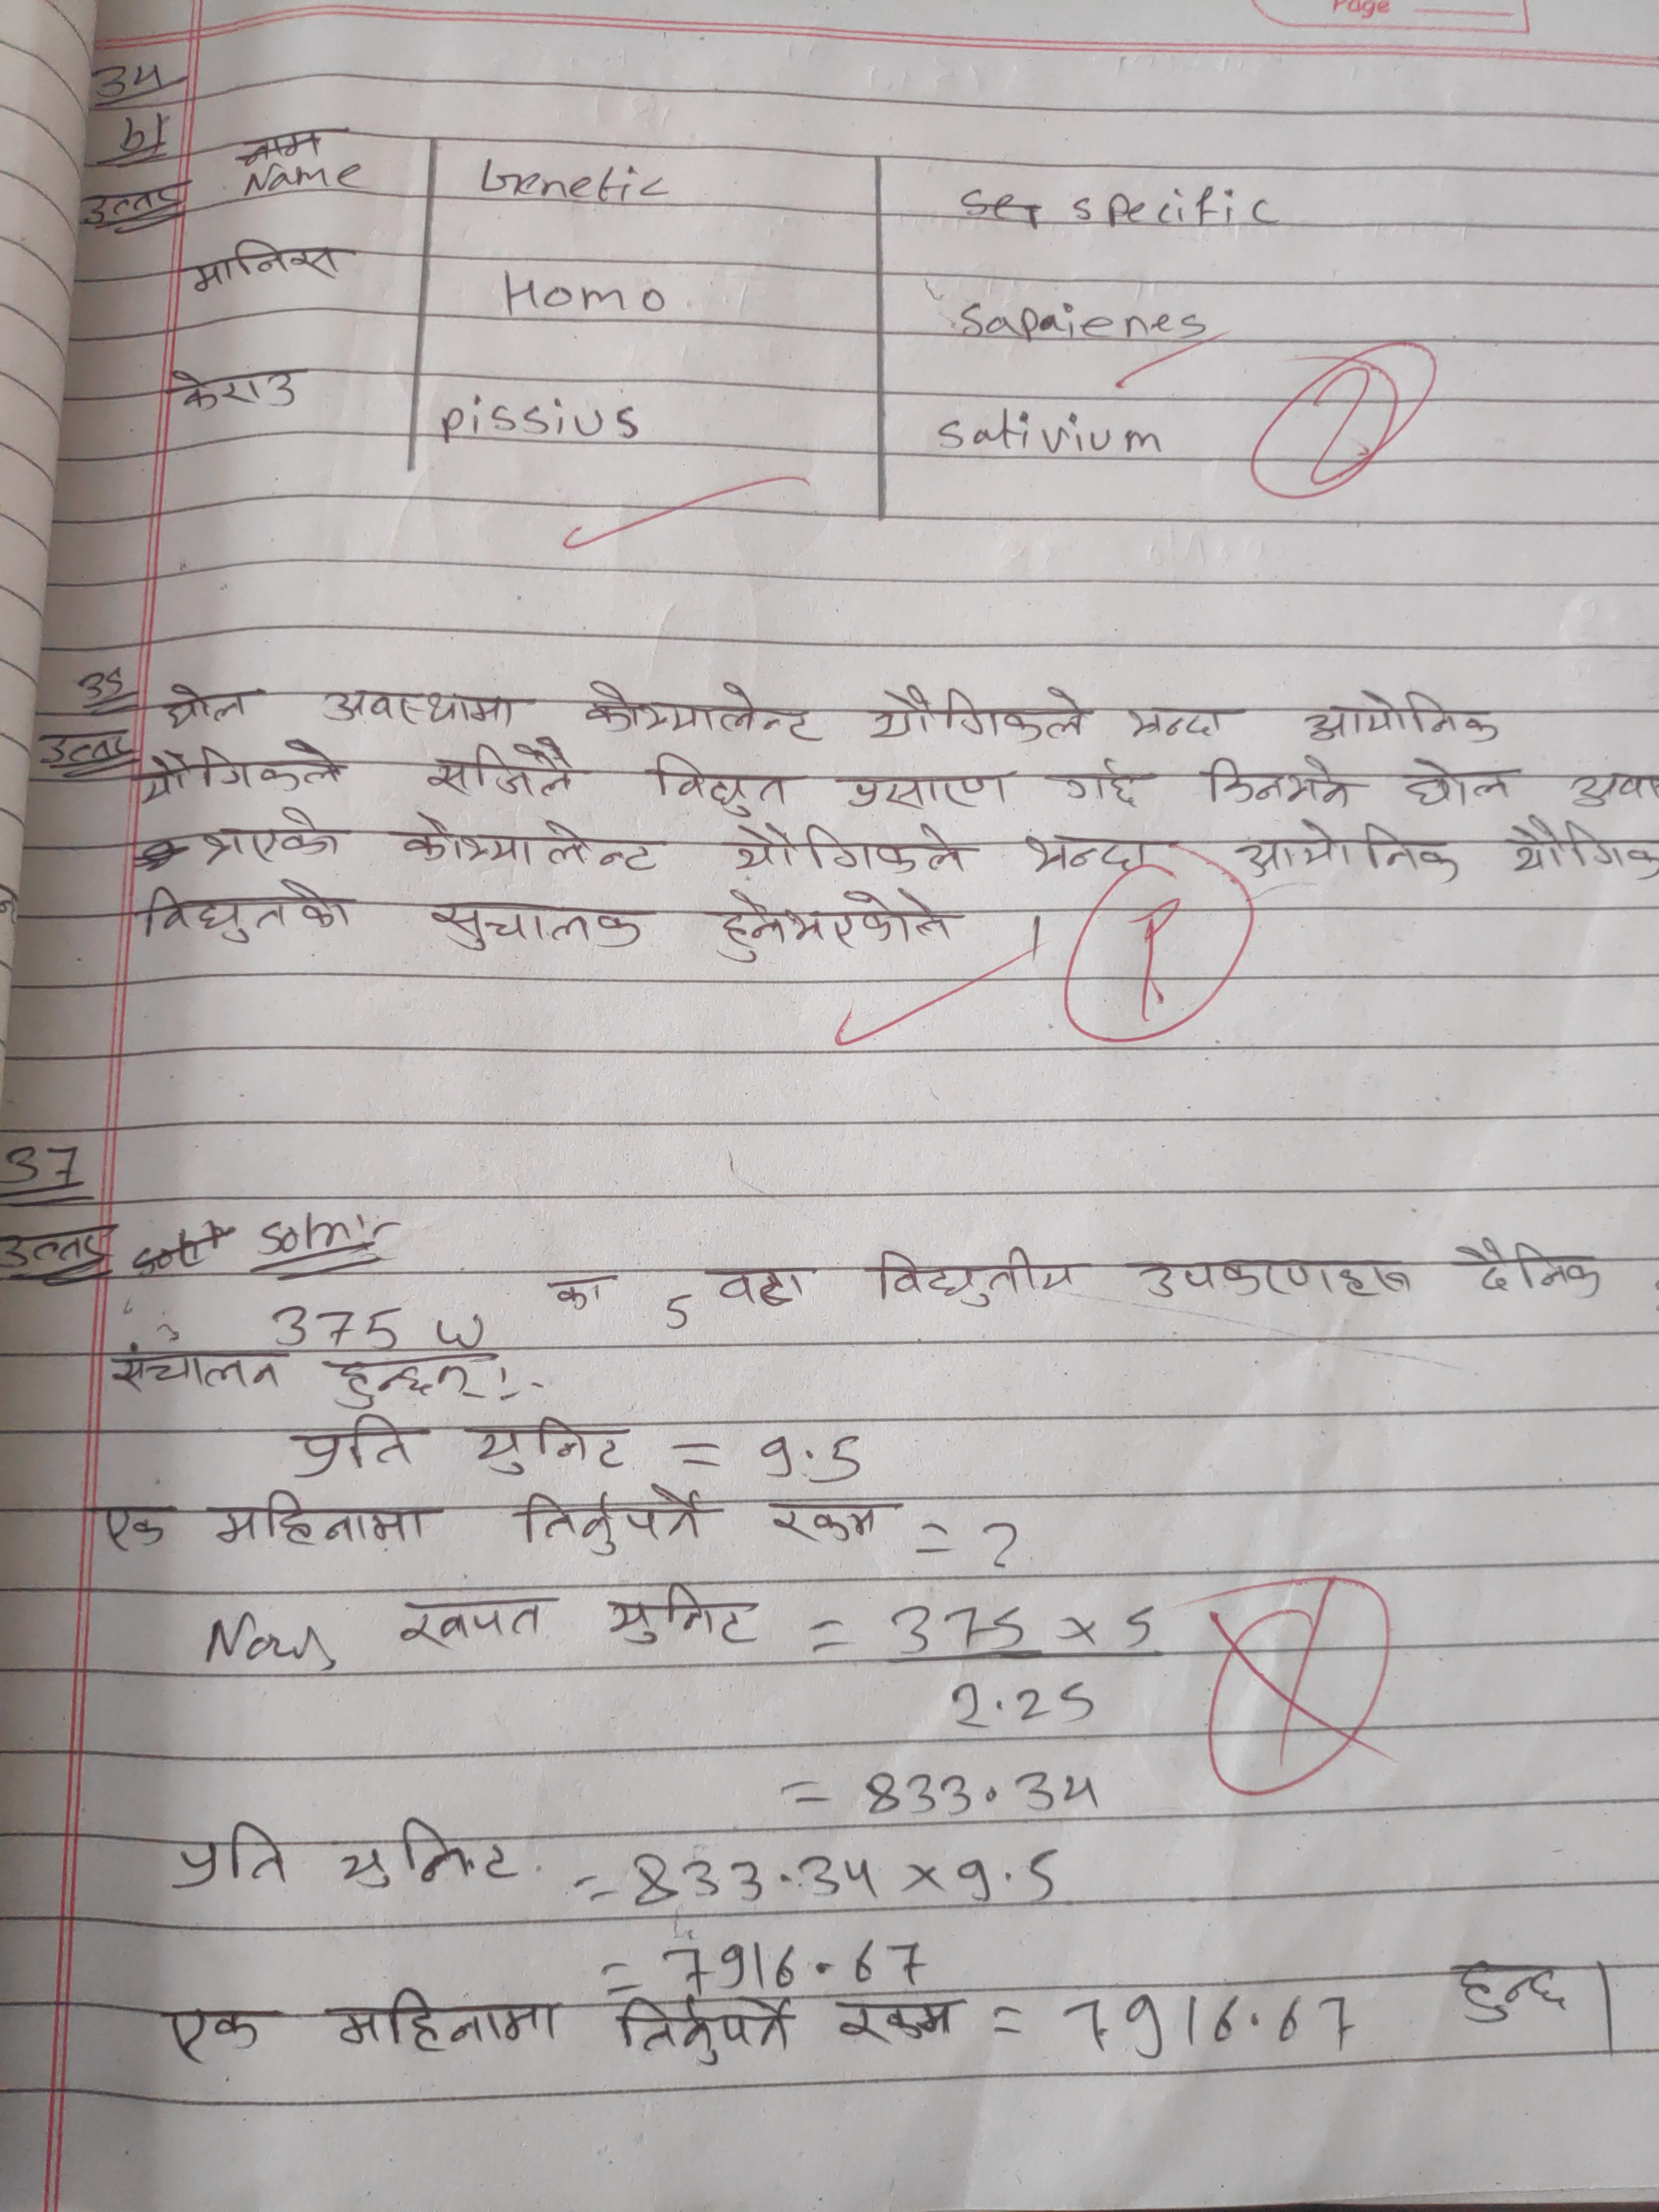text: (561, 665, 830, 752), (1124, 1240, 1422, 1308), (702, 888, 958, 965), (390, 810, 669, 880), (326, 1979, 563, 2060), (199, 1482, 439, 1559), (864, 1237, 1093, 1317), (861, 671, 1094, 747), (138, 871, 356, 953), (328, 1817, 525, 1905), (410, 892, 655, 961), (1234, 817, 1466, 890), (716, 819, 978, 883), (592, 1993, 798, 2074), (511, 1477, 713, 1555), (307, 671, 535, 738), (453, 1406, 629, 1484), (136, 744, 347, 806), (1197, 747, 1366, 822), (1297, 686, 1504, 747), (1432, 1946, 1577, 2031), (1445, 1233, 1615, 1305), (599, 1576, 756, 1651), (636, 745, 796, 817), (99, 1345, 291, 1404), (179, 232, 352, 296), (416, 735, 589, 799), (171, 1811, 296, 1898), (387, 1588, 561, 1649), (840, 761, 1021, 819), (1504, 813, 1659, 880), (322, 1348, 486, 1409), (282, 1416, 427, 1482), (186, 805, 352, 862), (1398, 749, 1527, 822), (153, 1991, 274, 2069), (1006, 822, 1169, 880), (702, 1256, 823, 1320), (765, 1494, 897, 1552), (1117, 695, 1251, 751), (826, 1994, 964, 2048), (1044, 747, 1141, 817), (148, 681, 277, 732), (84, 1494, 176, 1559), (1565, 761, 1659, 813), (537, 1263, 620, 1306)
